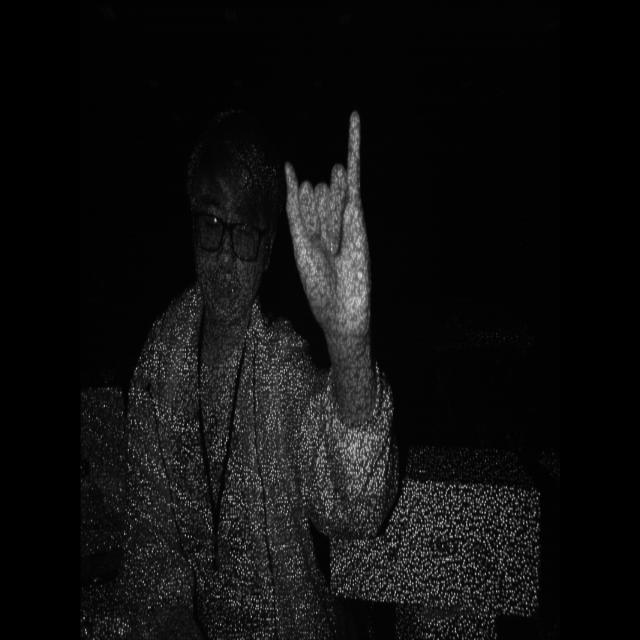I: (278, 99, 379, 328)
